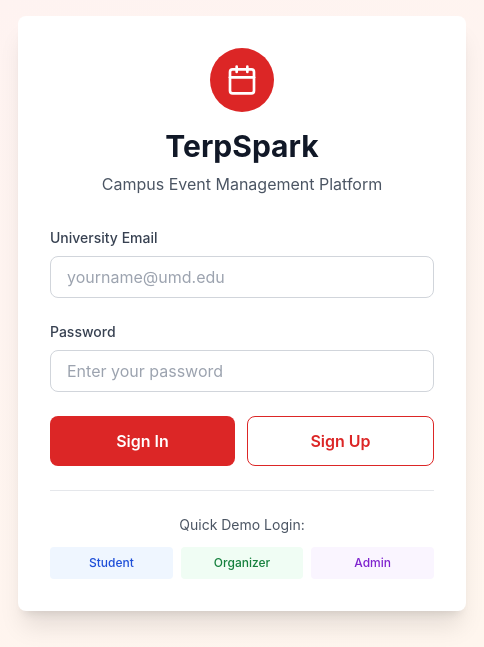
Scenario: LoginPage › shows loading state during login
Type "user@umd.edu" into the field labelled "University Email" at (242, 276), box [50, 256, 434, 298]
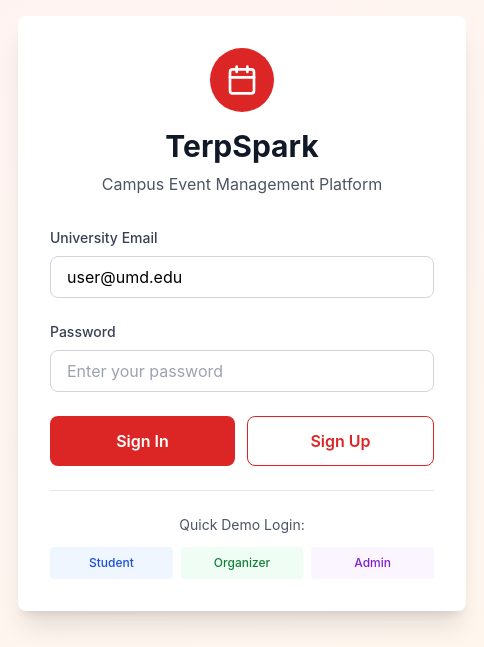
Type "password" into the password field labelled "Password" at (242, 370), box [50, 350, 434, 392]
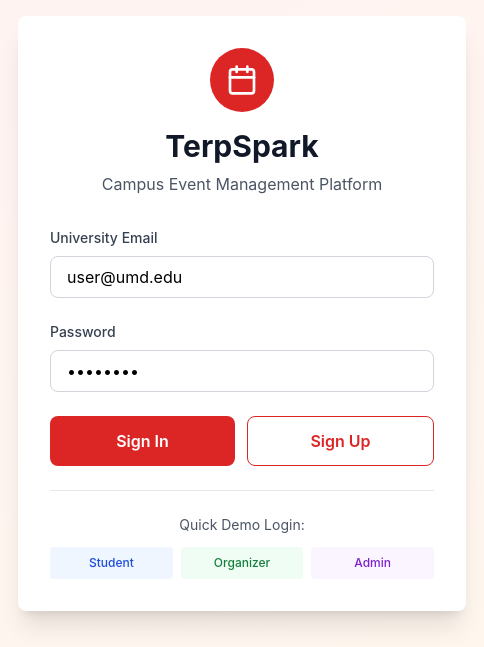
Click the button "Sign In" at (142, 440), box [50, 416, 235, 466]
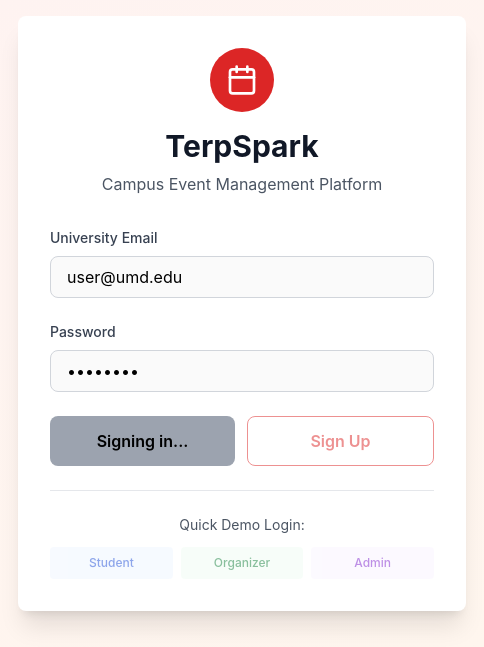
Result: the button "Signing in..." is disabled at [50, 416, 235, 466]
